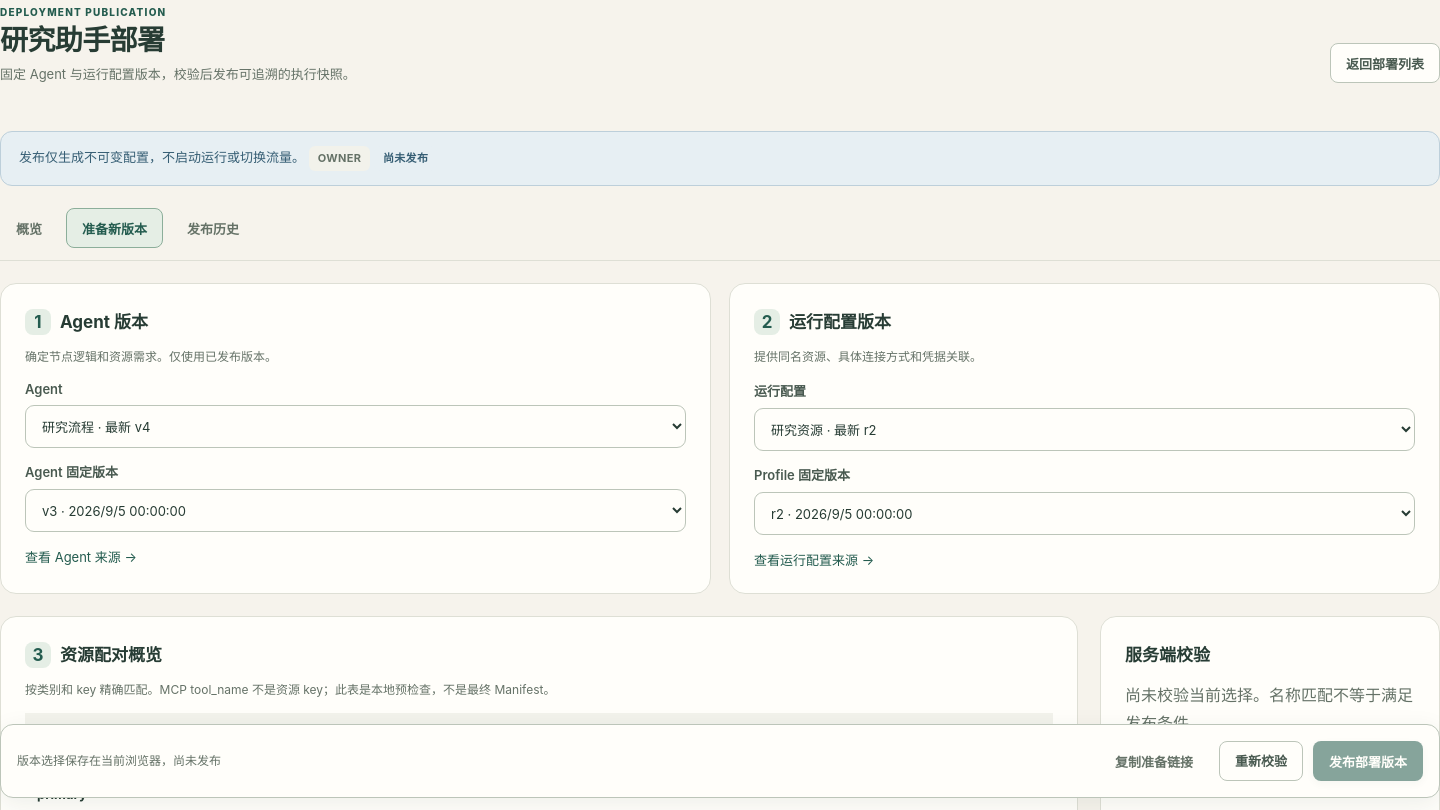
Test: Deployment publication workspace › revokes publication UI after server 403
Expected: the heading "研究助手部署" is shown, left=0, top=23, right=164, bottom=57
Click the button "重新校验": click(1261, 761) left=1219, top=741, right=1303, bottom=781
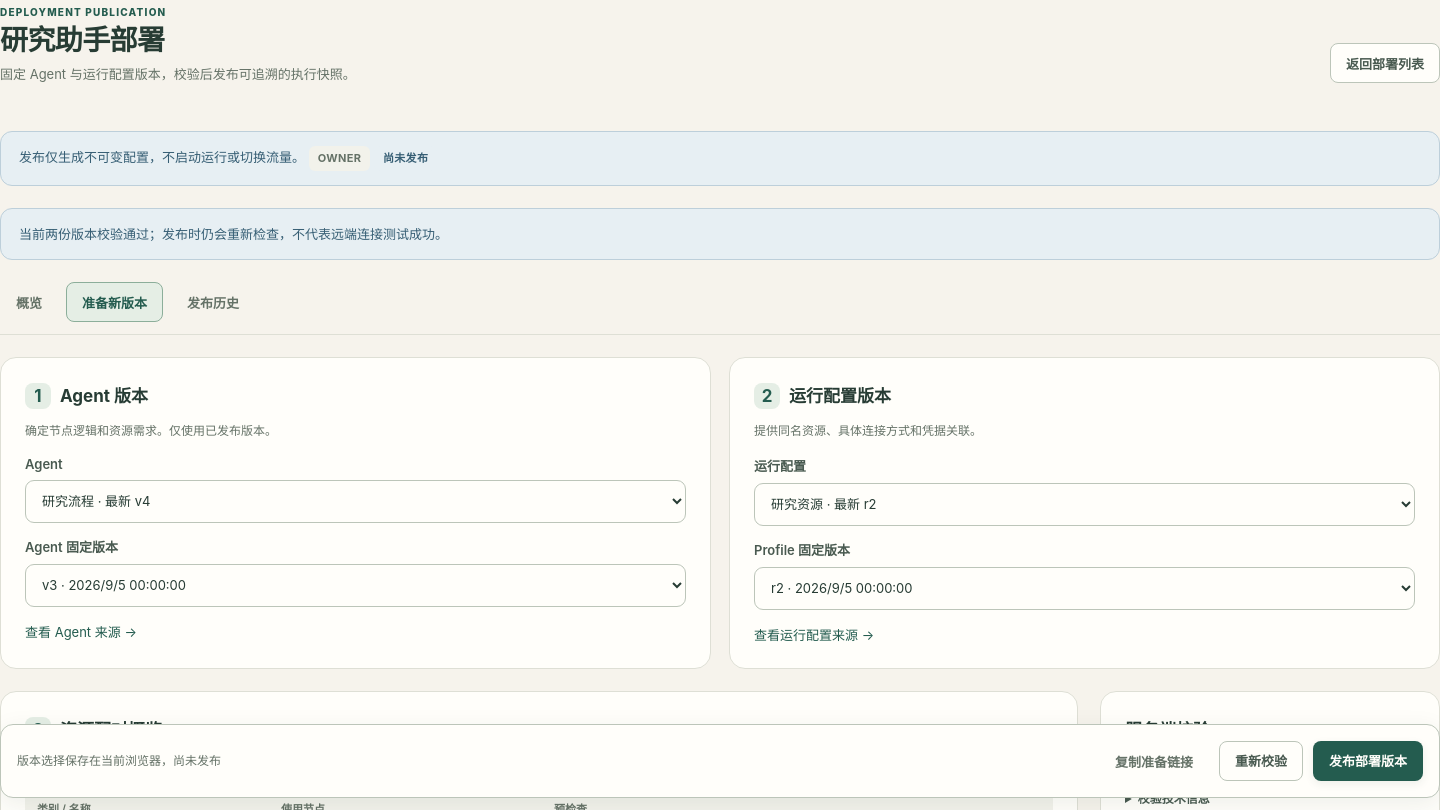
Now the button "发布部署版本" is enabled
Click the button "发布部署版本": click(1368, 761) left=1313, top=741, right=1423, bottom=781
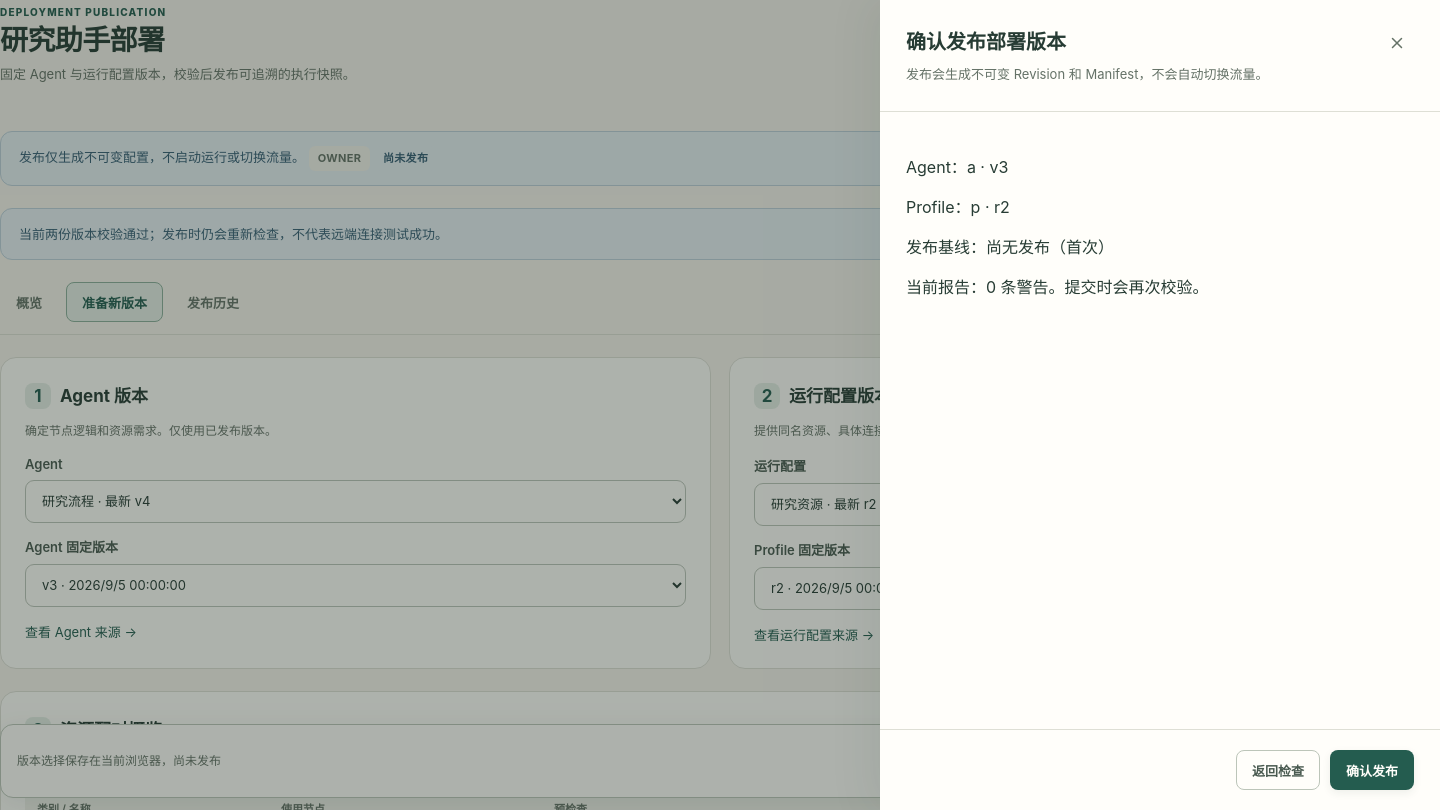
Click the button "确认发布": click(1372, 770) left=1330, top=750, right=1414, bottom=790
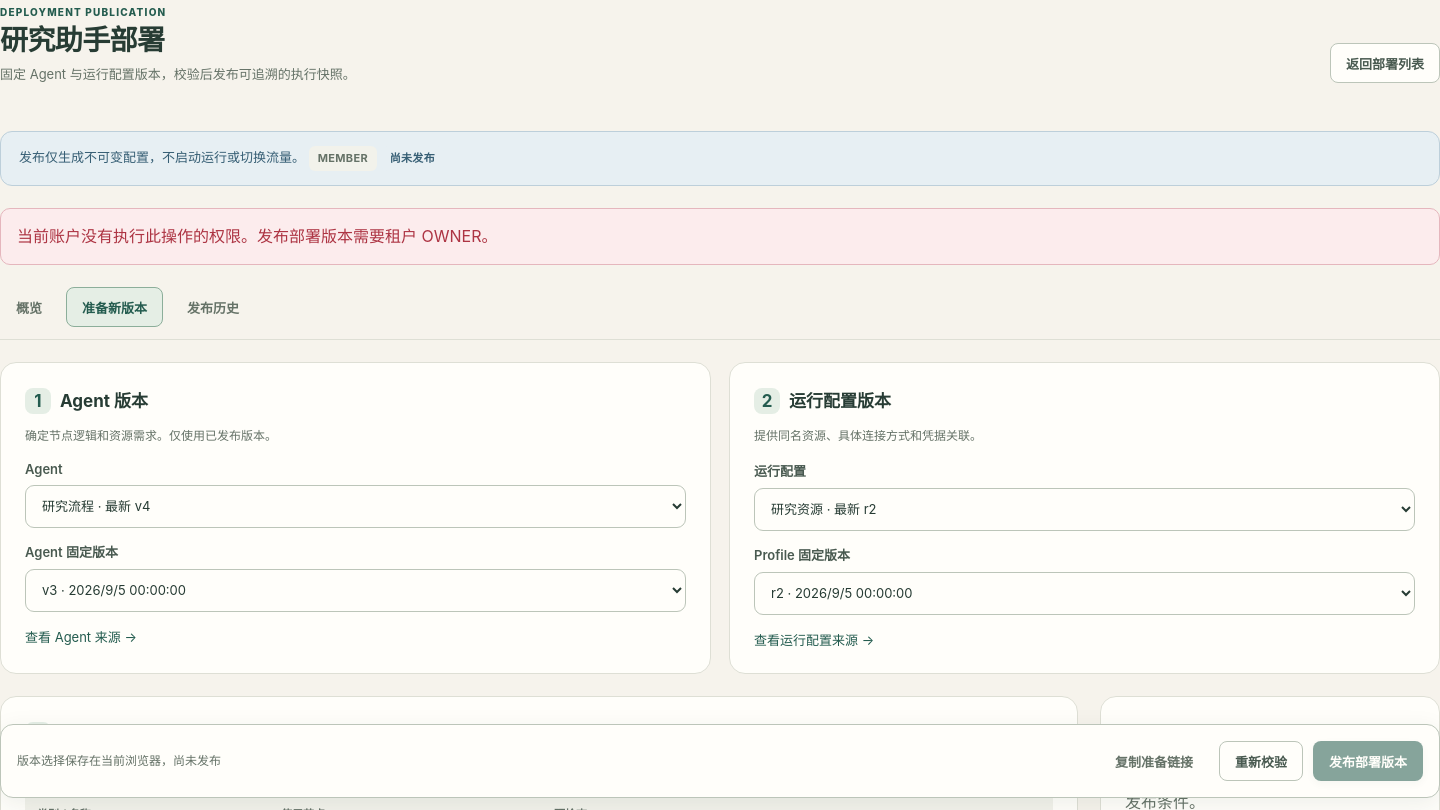
Now the button "发布部署版本" is disabled, box left=1313, top=741, right=1423, bottom=781
